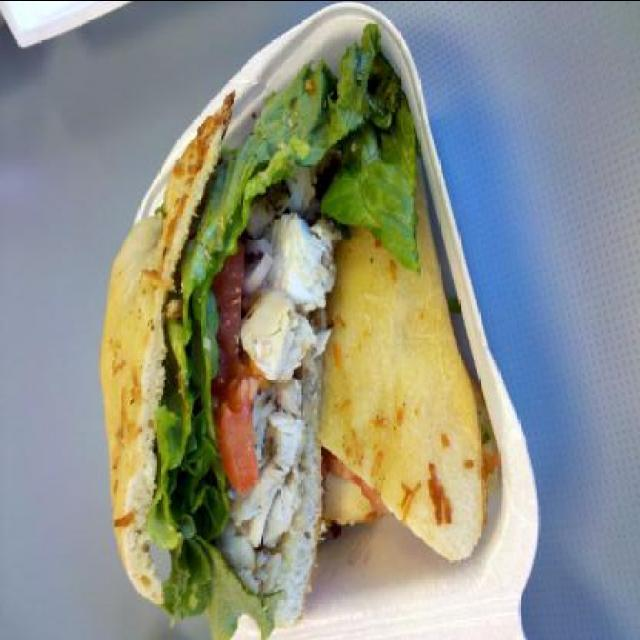Sandwich: (91, 22, 485, 640)
